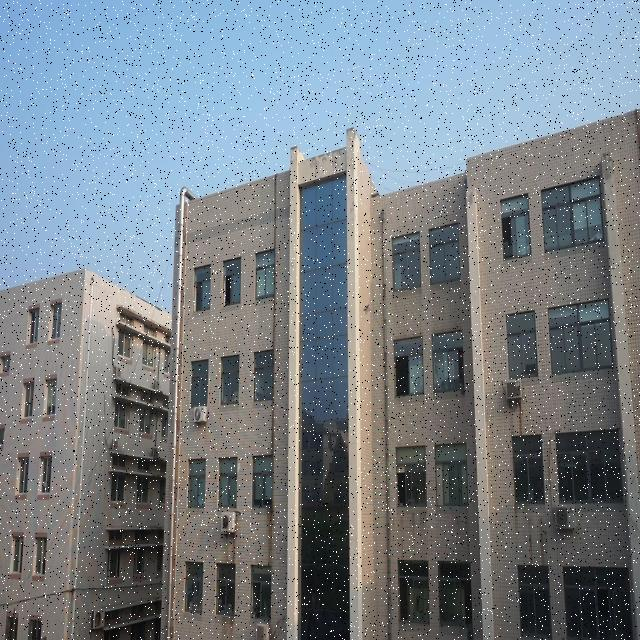UAV: (363, 304, 370, 314)
